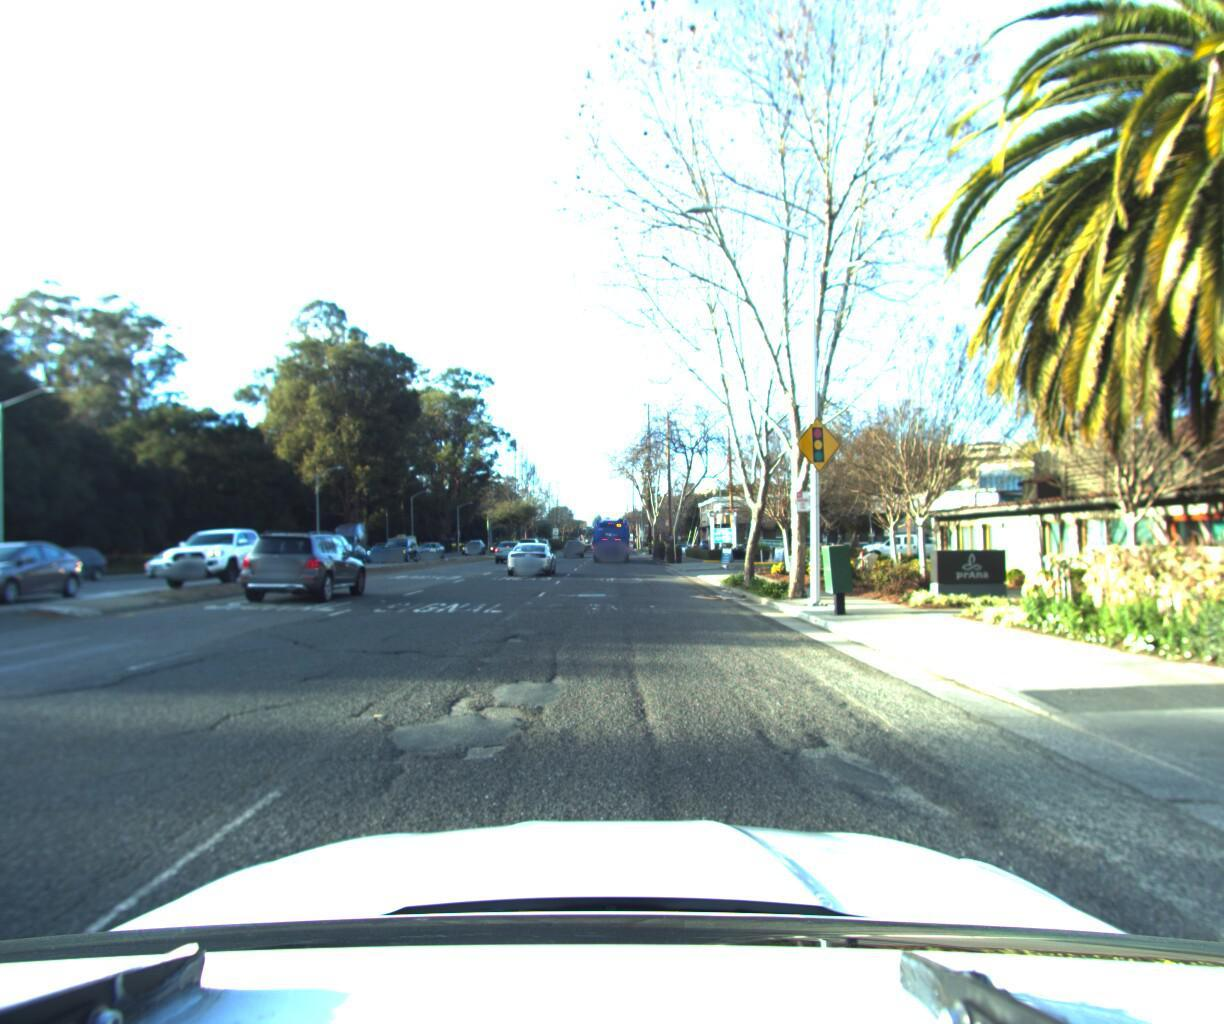bus: (591, 506, 631, 559)
car: (237, 528, 372, 605), (158, 525, 292, 591), (0, 540, 98, 618), (10, 548, 115, 590), (853, 524, 959, 557), (133, 545, 210, 579), (508, 532, 558, 575), (375, 535, 417, 560), (489, 535, 522, 561), (363, 540, 397, 562), (412, 539, 447, 558), (563, 535, 584, 553), (0, 513, 1, 646)
